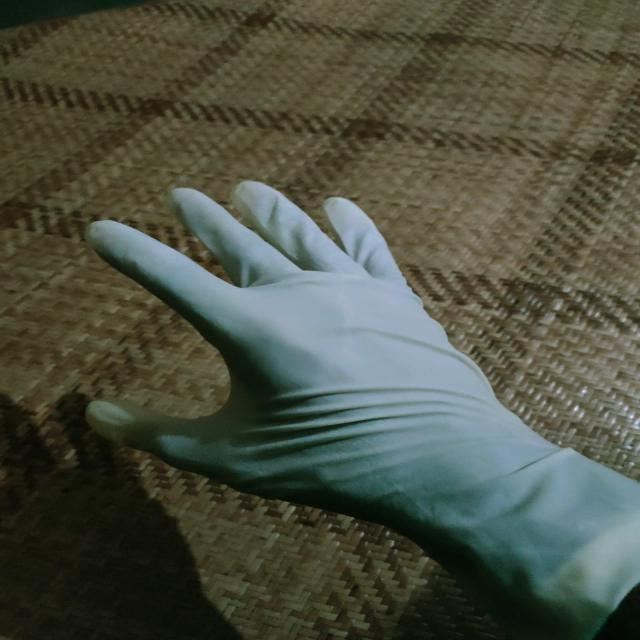gloved_hand: (78, 175, 637, 639)
